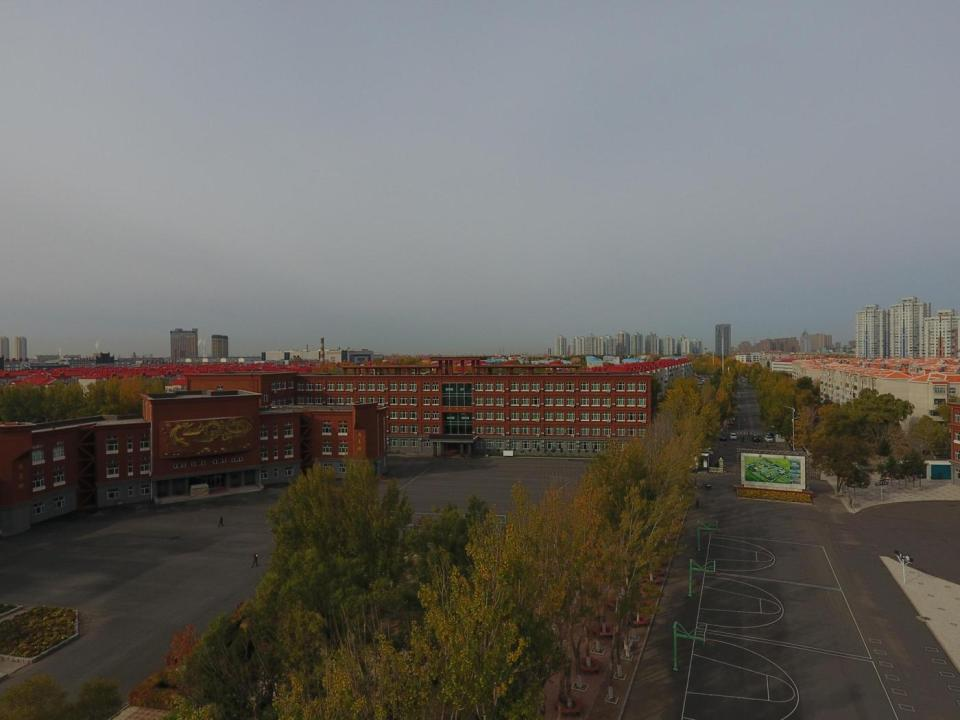car: (751, 433, 761, 444), (729, 432, 737, 441), (764, 435, 773, 443), (718, 433, 726, 442), (728, 418, 734, 426)
